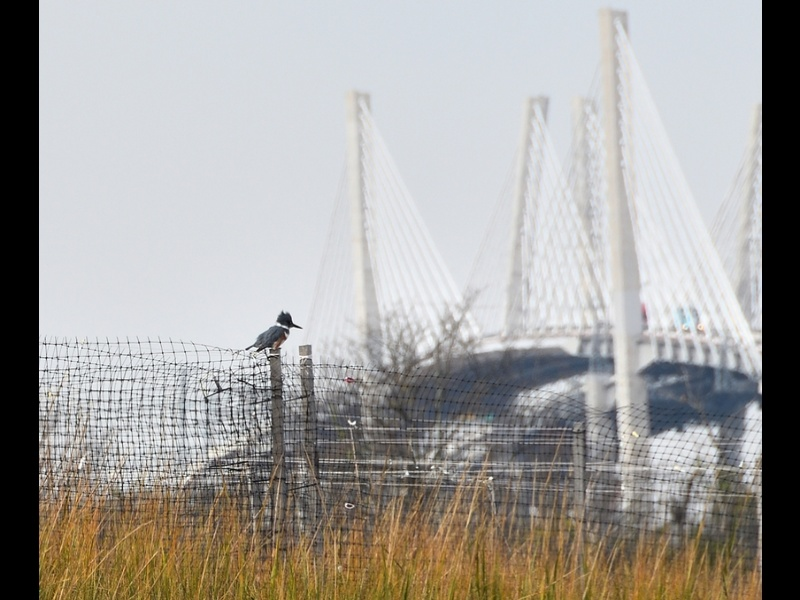kingfisher: (248, 309, 303, 355)
